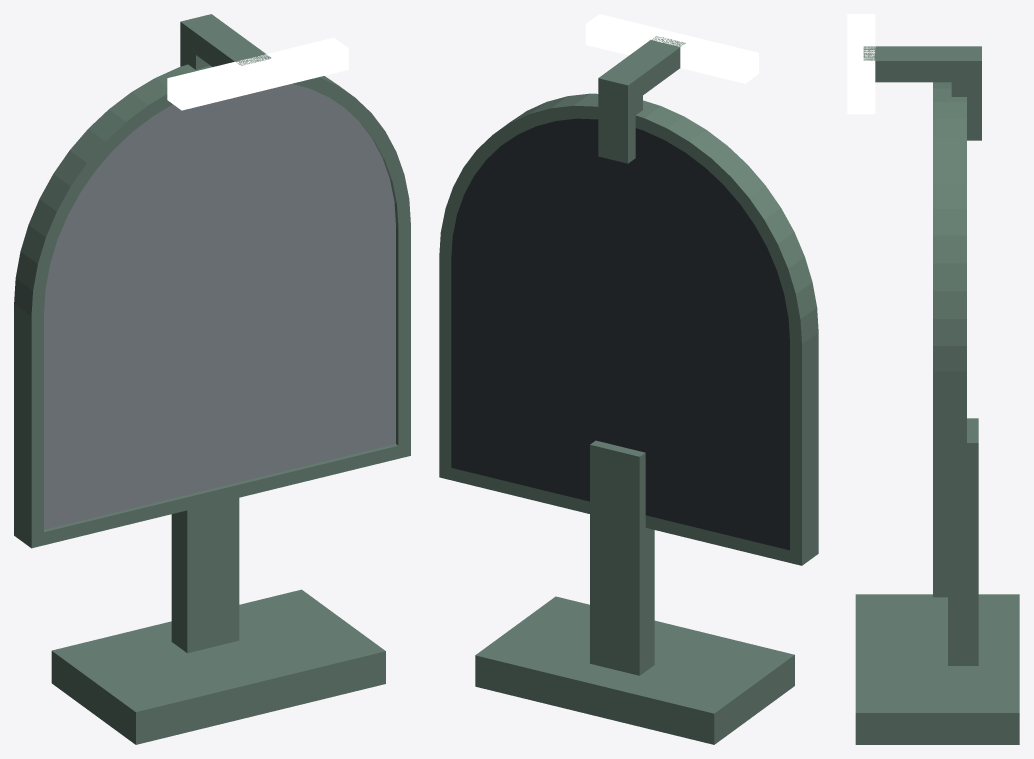
3 views of the same model, side by side, from view 1: azimuth 30°, elevation 25°; view 2: azimuth 150°, elevation 25°; view 3: azimuth 270°, elevation 25° (orthographic). The views are drawn at different scales.
Visible parts, largest first — view 1: makeup-face-center, makeup-base, makeup-frame-center, makeup-post, makeup-lamp, makeup-lamp-arm; view 2: makeup-back-center, makeup-frame-center, makeup-base, makeup-post, makeup-lamp, makeup-lamp-arm, makeup-lamp-riser; view 3: makeup-base, makeup-frame-center, makeup-post, makeup-lamp-arm, makeup-lamp, makeup-lamp-riser.
Boxes of the visible parts, x1=… form: makeup-face-center: x1=44, y1=84, x2=395, y2=529; makeup-base: x1=51, y1=589, x2=385, y2=744; makeup-frame-center: x1=14, y1=64, x2=410, y2=548; makeup-post: x1=171, y1=498, x2=239, y2=653; makeup-lamp: x1=167, y1=37, x2=348, y2=110; makeup-lamp-arm: x1=180, y1=14, x2=270, y2=66; makeup-back-center: x1=451, y1=118, x2=789, y2=550; makeup-frame-center: x1=439, y1=93, x2=818, y2=565; makeup-base: x1=475, y1=596, x2=794, y2=744; makeup-post: x1=590, y1=440, x2=654, y2=675; makeup-lamp: x1=585, y1=14, x2=758, y2=83; makeup-lamp-arm: x1=598, y1=36, x2=685, y2=105; makeup-lamp-riser: x1=598, y1=82, x2=642, y2=163; makeup-base: x1=855, y1=594, x2=1019, y2=744; makeup-frame-center: x1=933, y1=82, x2=966, y2=597; makeup-post: x1=948, y1=418, x2=978, y2=665; makeup-lamp-arm: x1=863, y1=46, x2=981, y2=82; makeup-lamp: x1=847, y1=14, x2=875, y2=114; makeup-lamp-riser: x1=951, y1=68, x2=981, y2=140.
Bounding box in the file's own units: 0.364 × 0.595 × 0.147.
